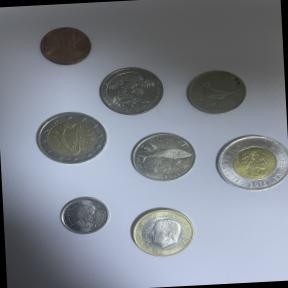1 Euro-B: (119, 199, 209, 268)
2 Euro-B: (30, 108, 112, 170)
Canada-10cent-B: (53, 190, 118, 244)
Canada-2Dollar-B: (203, 124, 288, 202)
Croatia-2Kune-B: (122, 126, 204, 186)
US-1cent-B: (31, 18, 104, 75)
US-25cent-B: (94, 64, 170, 119)
